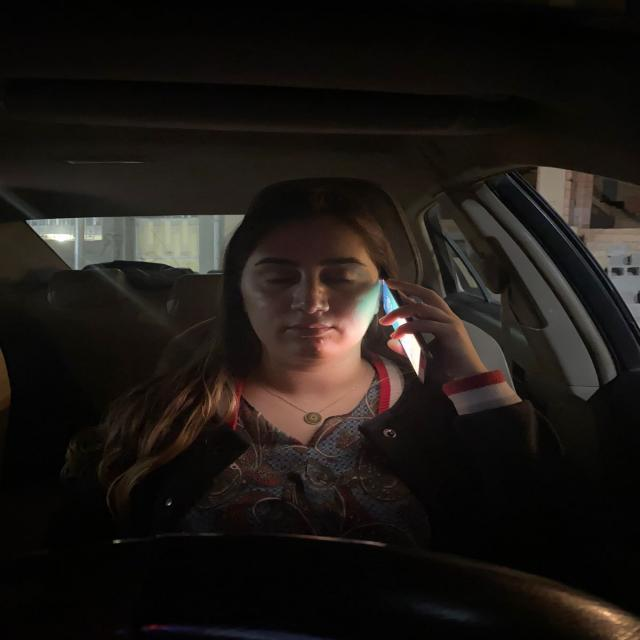mobile: (370, 276, 442, 388)
person: (212, 184, 400, 364)
